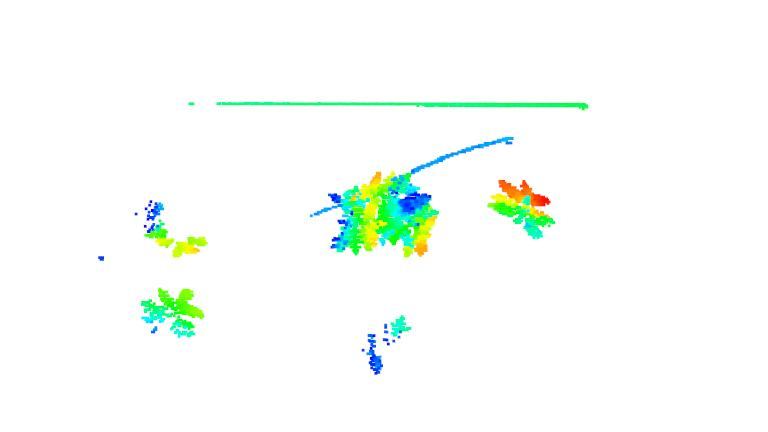chickpea: (378, 172, 446, 259), (142, 197, 221, 265), (326, 172, 381, 255), (489, 179, 560, 242), (356, 314, 424, 379), (136, 285, 205, 344)
